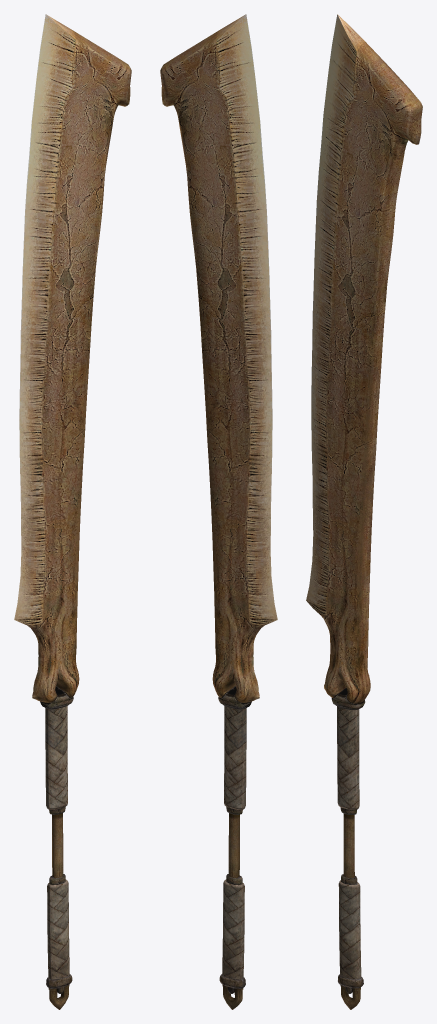
File: bs_swo005.obj
3 views of the same model, side by side, from view 1: azimuth 30°, elevation 25°; view 2: azimuth 150°, elevation 25°; view 3: azimuth 330°, elevation 25° (orthographic).
Parts seen in each view (by area): view 1: bs_swo005_001_LOD_1, bs_swo005_000_LOD_1; view 2: bs_swo005_001_LOD_1, bs_swo005_000_LOD_1; view 3: bs_swo005_001_LOD_1, bs_swo005_000_LOD_1.
Boxes of the visible parts, <box> form: bs_swo005_001_LOD_1: <box>14,14,131,709</box>; bs_swo005_000_LOD_1: <box>45,706,72,1009</box>; bs_swo005_001_LOD_1: <box>160,14,277,709</box>; bs_swo005_000_LOD_1: <box>219,706,246,1009</box>; bs_swo005_001_LOD_1: <box>306,14,422,709</box>; bs_swo005_000_LOD_1: <box>337,706,363,1009</box>.
Bounding box in the file's own units: 34.46 × 282 × 7.5.
